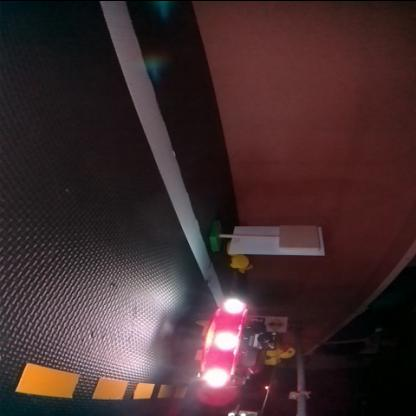Duckie: (266, 342, 294, 363), (230, 254, 249, 268), (239, 262, 252, 272)
Duckiebot: (188, 298, 274, 386)
Traffic light: (290, 389, 312, 398)
